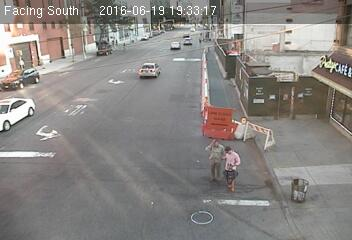neg: (188, 41, 213, 75), (282, 90, 303, 118), (138, 66, 158, 93), (57, 38, 75, 62)
pos: (213, 144, 252, 196), (198, 135, 230, 177)
